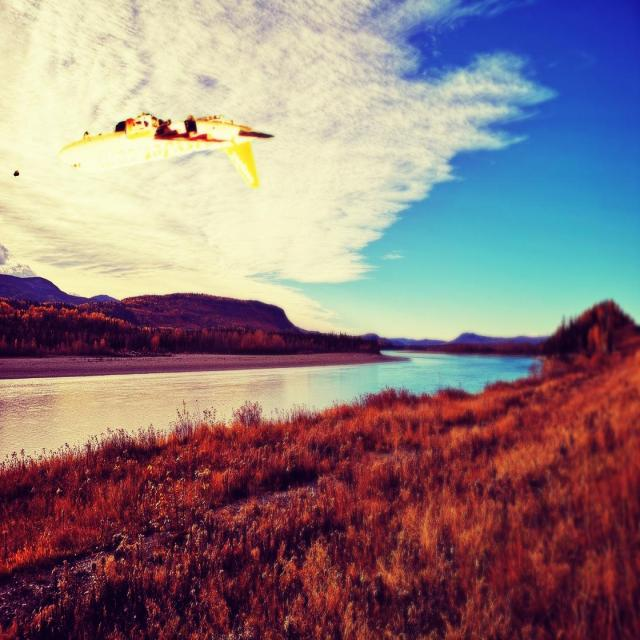airplane: (57, 111, 275, 189)
